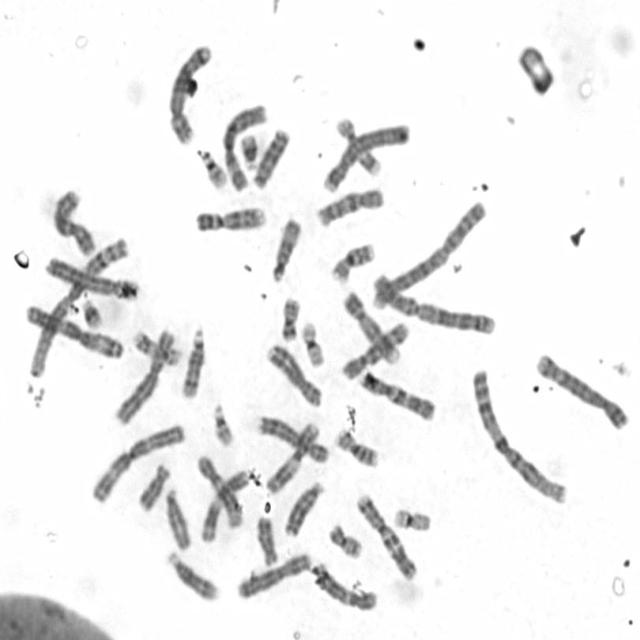A1: (26, 234, 132, 379), (469, 367, 571, 507)
A2: (372, 200, 490, 312), (372, 272, 500, 337)
A3: (92, 423, 187, 505), (22, 301, 127, 361)
B4: (320, 122, 412, 194), (44, 257, 140, 301)
B5: (535, 354, 630, 431), (166, 46, 213, 153)
C10: (339, 321, 410, 381), (315, 188, 387, 228)
C11: (263, 421, 322, 495), (200, 471, 250, 543)
C12: (195, 454, 244, 530), (311, 563, 380, 612)
C6: (112, 327, 176, 426), (222, 103, 270, 193)
C7: (356, 493, 420, 583), (360, 371, 438, 424)
C8: (266, 340, 324, 407), (259, 414, 330, 465)
C9: (342, 290, 404, 368), (193, 206, 268, 236)
D13: (250, 129, 291, 192), (284, 480, 326, 539)
D14: (168, 551, 220, 603), (180, 326, 208, 401)
D15: (270, 218, 302, 284), (164, 488, 193, 550)
E16: (327, 240, 377, 286), (334, 428, 382, 473)
E17: (337, 114, 382, 178), (130, 322, 183, 366)
E18: (138, 463, 172, 513), (255, 515, 279, 566)
F19: (300, 322, 327, 369), (391, 506, 434, 534)
F20: (327, 522, 364, 560), (280, 294, 302, 342)
G21: (240, 131, 263, 174), (79, 297, 106, 332)
G22: (196, 149, 228, 191), (211, 403, 235, 448)
X: (235, 552, 313, 601), (53, 189, 98, 257)
